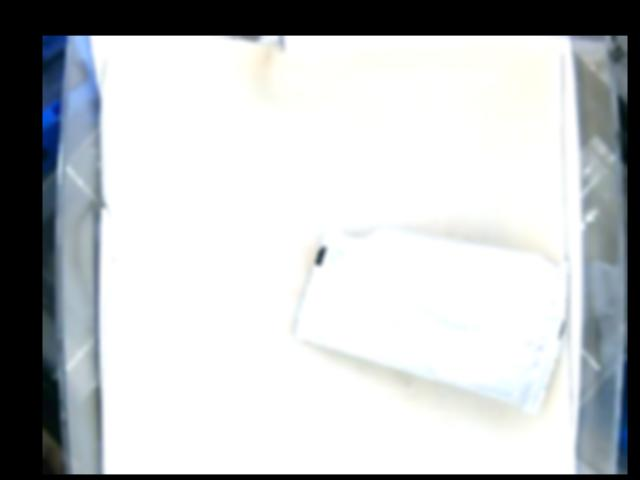Medicine: (296, 224, 577, 409)
